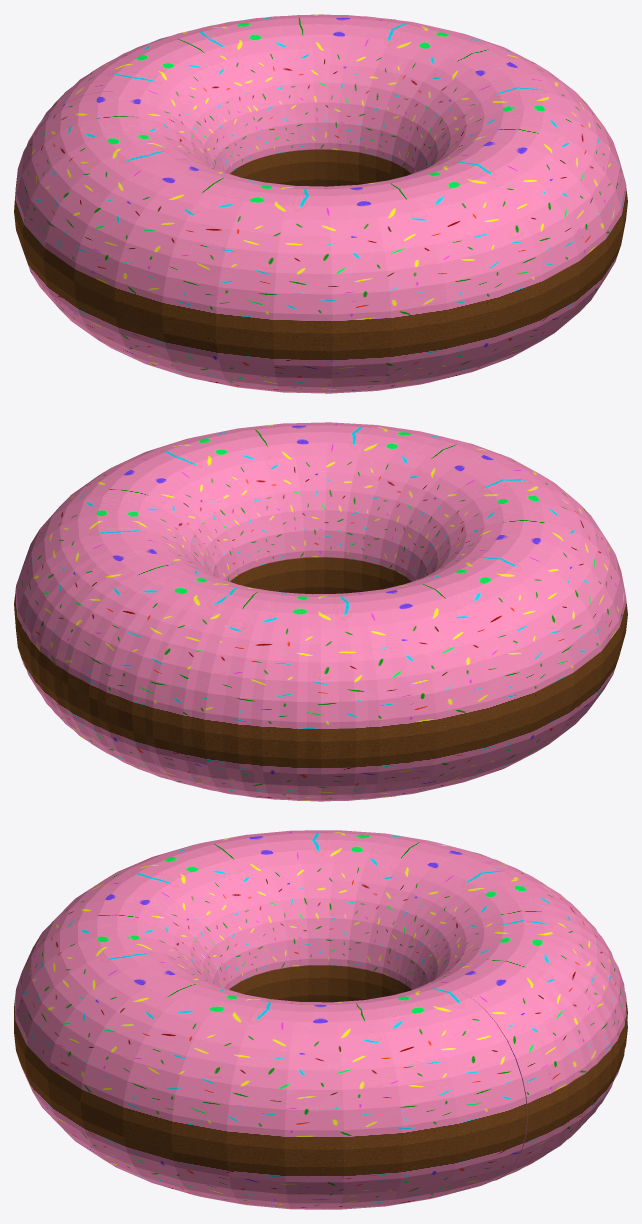
Rendered from dona2.obj.
The picture shows the model from 3 angles, top to bottom: view 1: azimuth 30°, elevation 25°; view 2: azimuth 150°, elevation 25°; view 3: azimuth 270°, elevation 25°; orthographic projection.
Visible parts, largest first — view 1: dona2:Mesh; view 2: dona2:Mesh; view 3: dona2:Mesh.
Boxes of the visible parts, left/top/right/bottom form: dona2:Mesh: left=14, top=14, right=627, bottom=393; dona2:Mesh: left=14, top=422, right=627, bottom=801; dona2:Mesh: left=14, top=830, right=627, bottom=1209.
Bounding box in the file's own units: 1.25 × 0.4245 × 1.25.
1 material, 1 textured.
